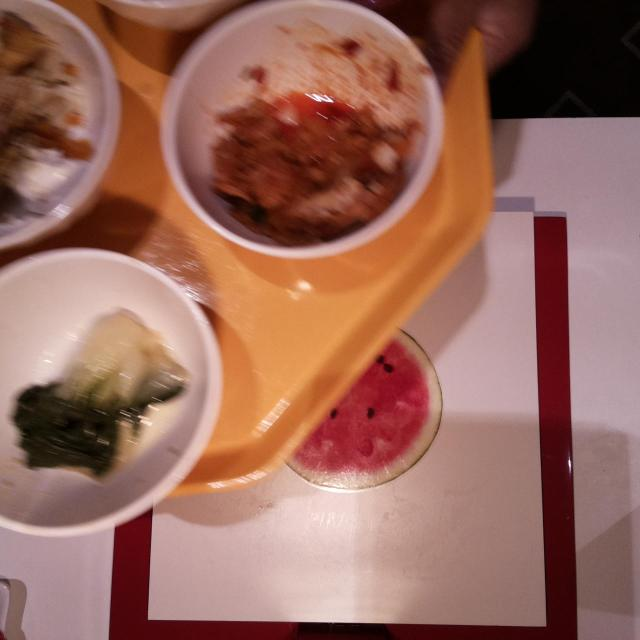Vegetable: (12, 383, 124, 475)
